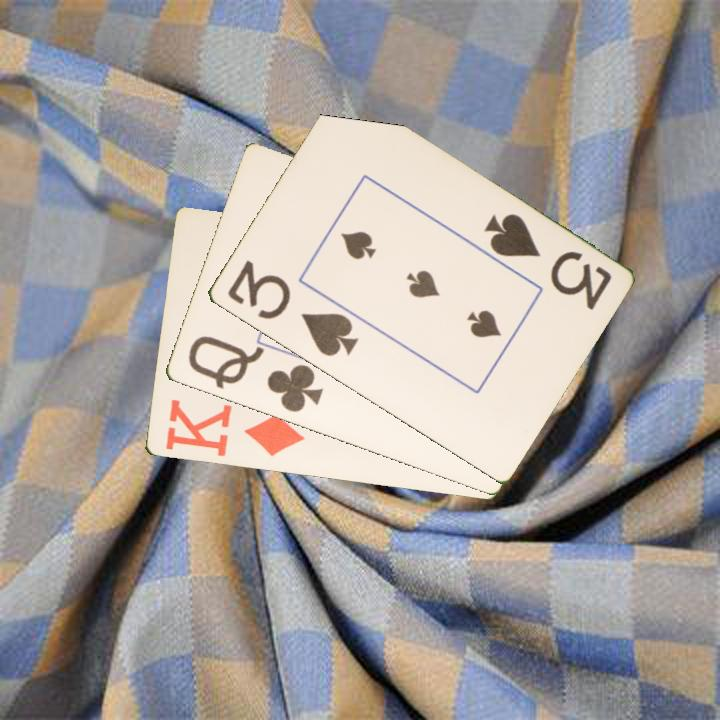3s: (223, 256, 361, 360), (479, 210, 614, 313)
Kd: (161, 396, 307, 460)
Qc: (184, 332, 326, 416)
